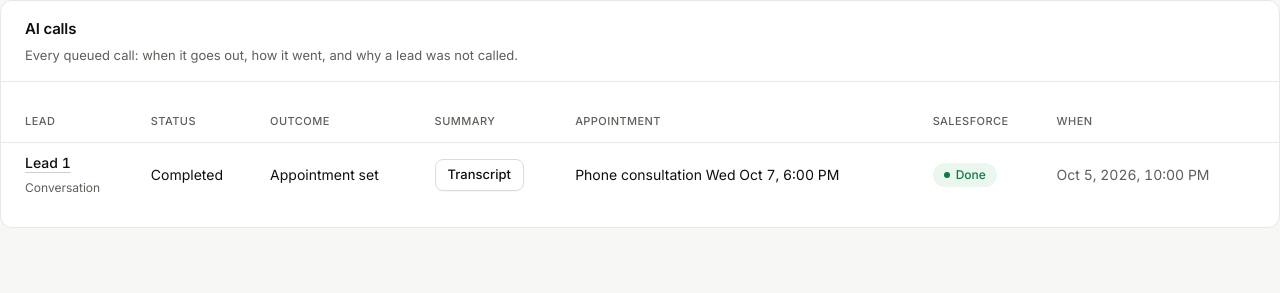
Test: plan 1D: appointment and Salesforce columns › final review m6: the Transcript toggle says whether it is open
The image size is (1280, 293).
Step 1. Click the button "Transcript" → {"x": 479, "y": 174}, box x1=435 y1=158 x2=524 y2=190
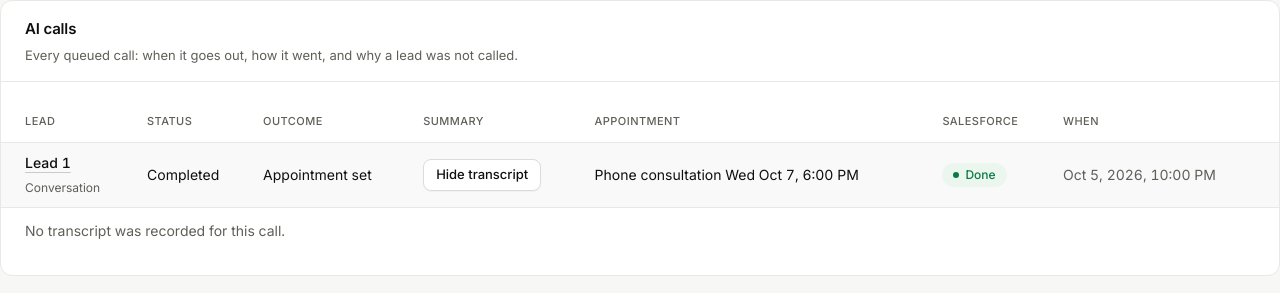
Expected: the button "Hide transcript" is expanded, x1=423 y1=158 x2=541 y2=190
